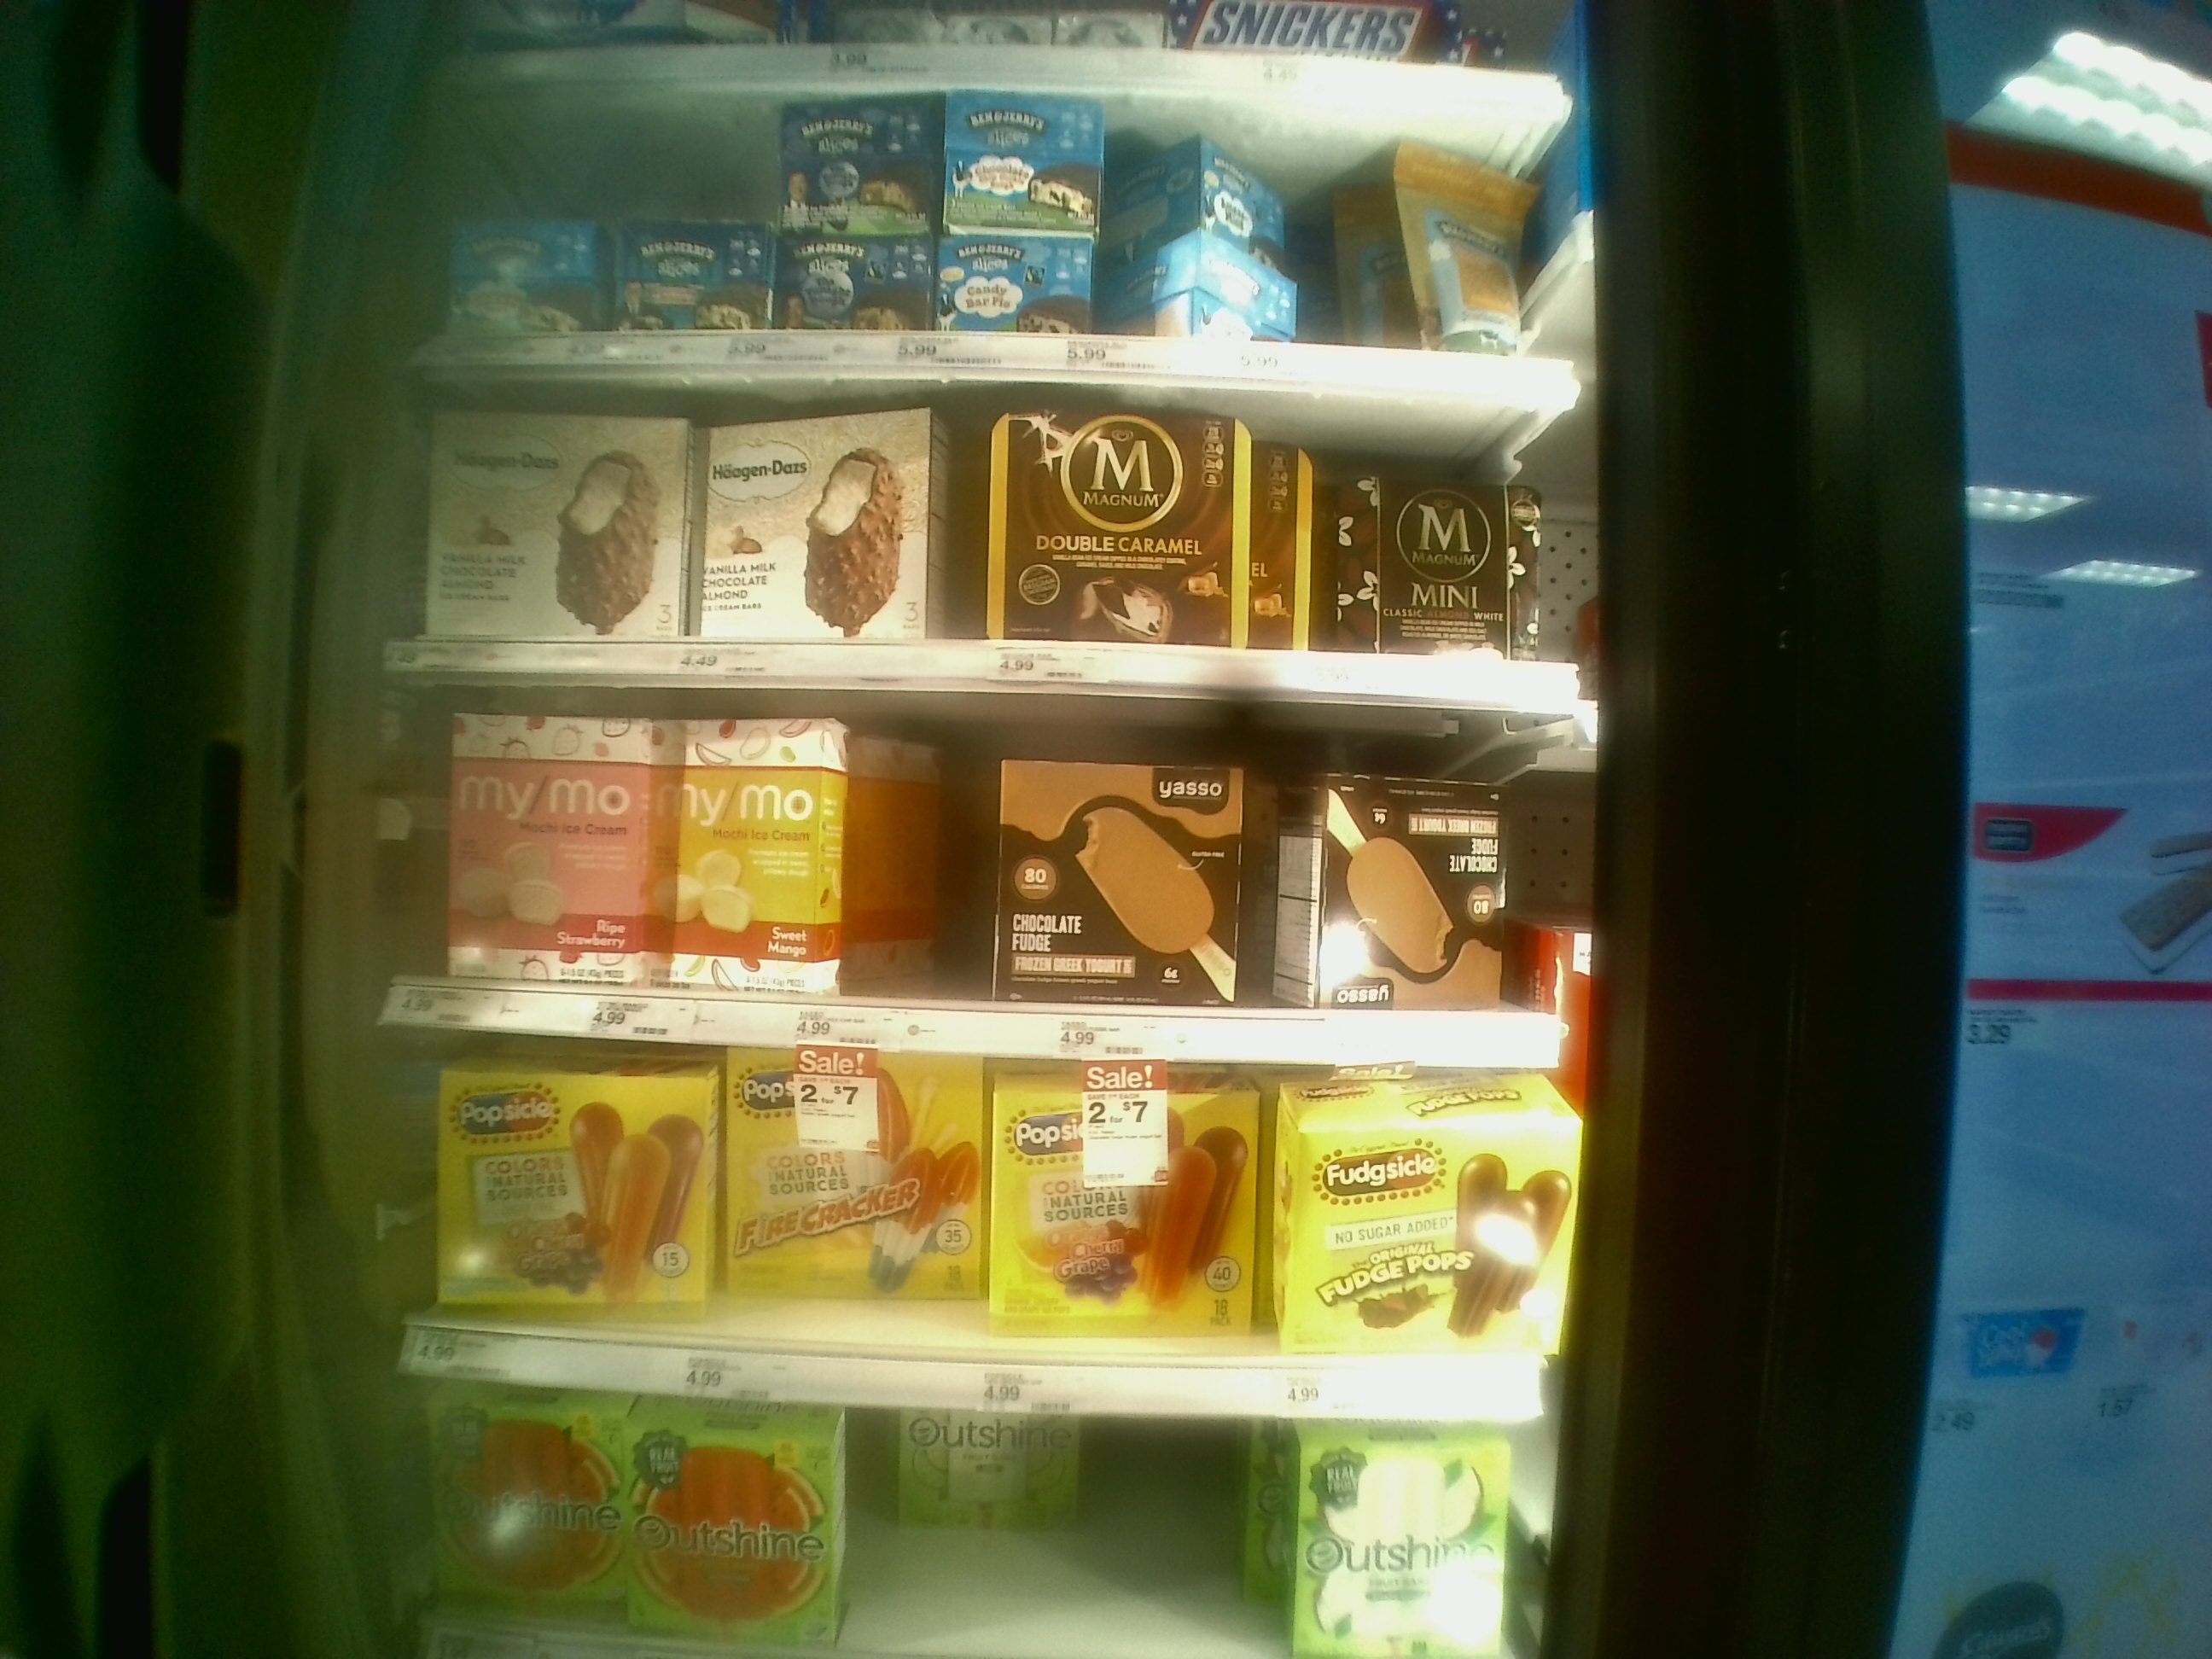shelf: (399, 1054, 1559, 1417), (390, 692, 1569, 1042), (381, 373, 1587, 692), (402, 98, 1576, 399)
